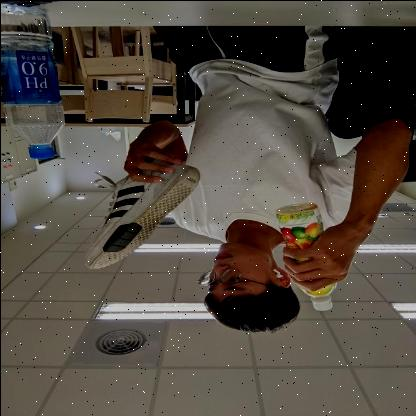Plastic Bottle: (1, 3, 65, 159), (274, 202, 338, 312)
